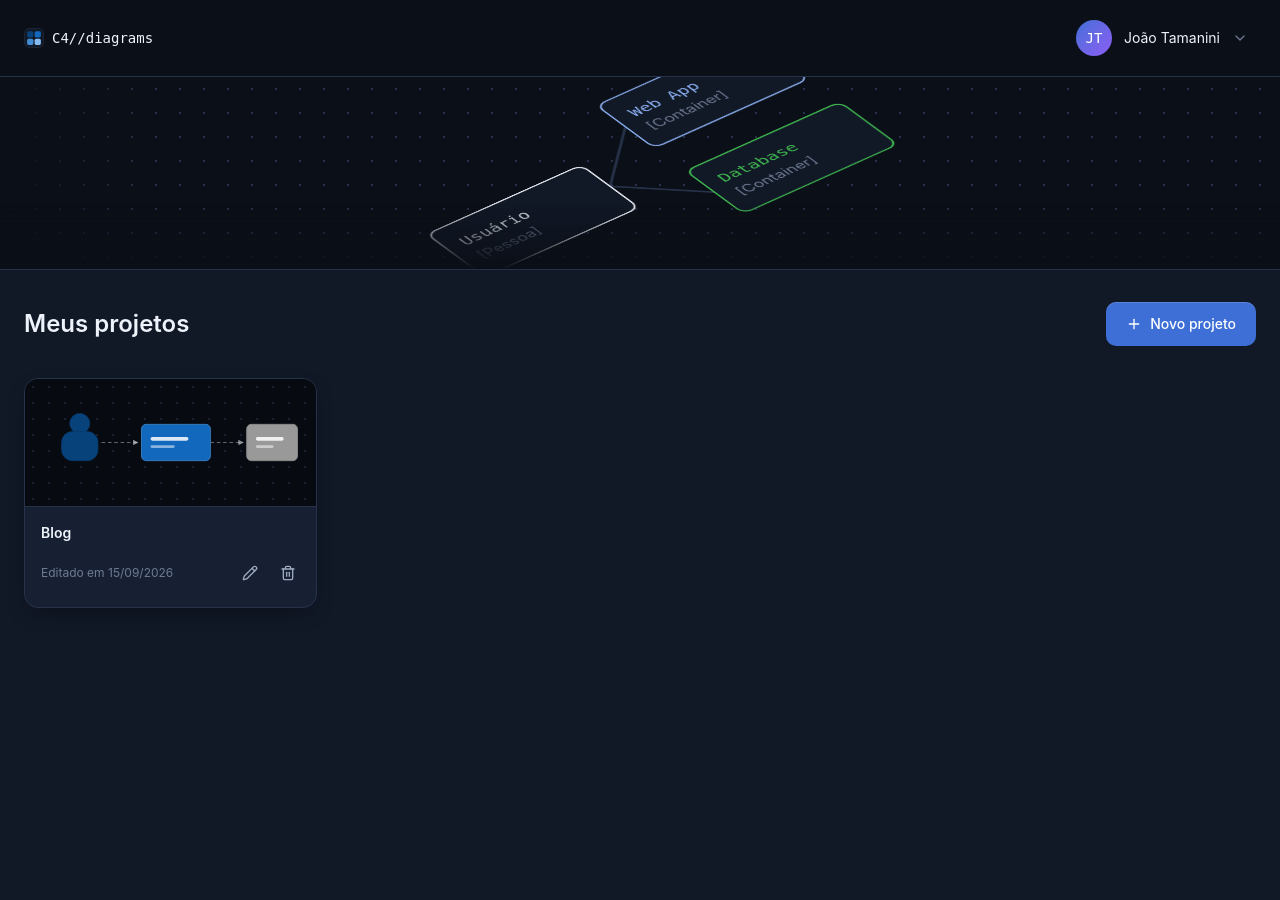
Dashboard › deve fechar o modal de criação ao cancelar, sem criar projeto
This screenshot has width=1280, height=900.
Expected: the link "Blog" is shown, [41,524,71,541]
Click the button "Novo projeto": (1181, 324) [1106,302,1256,346]
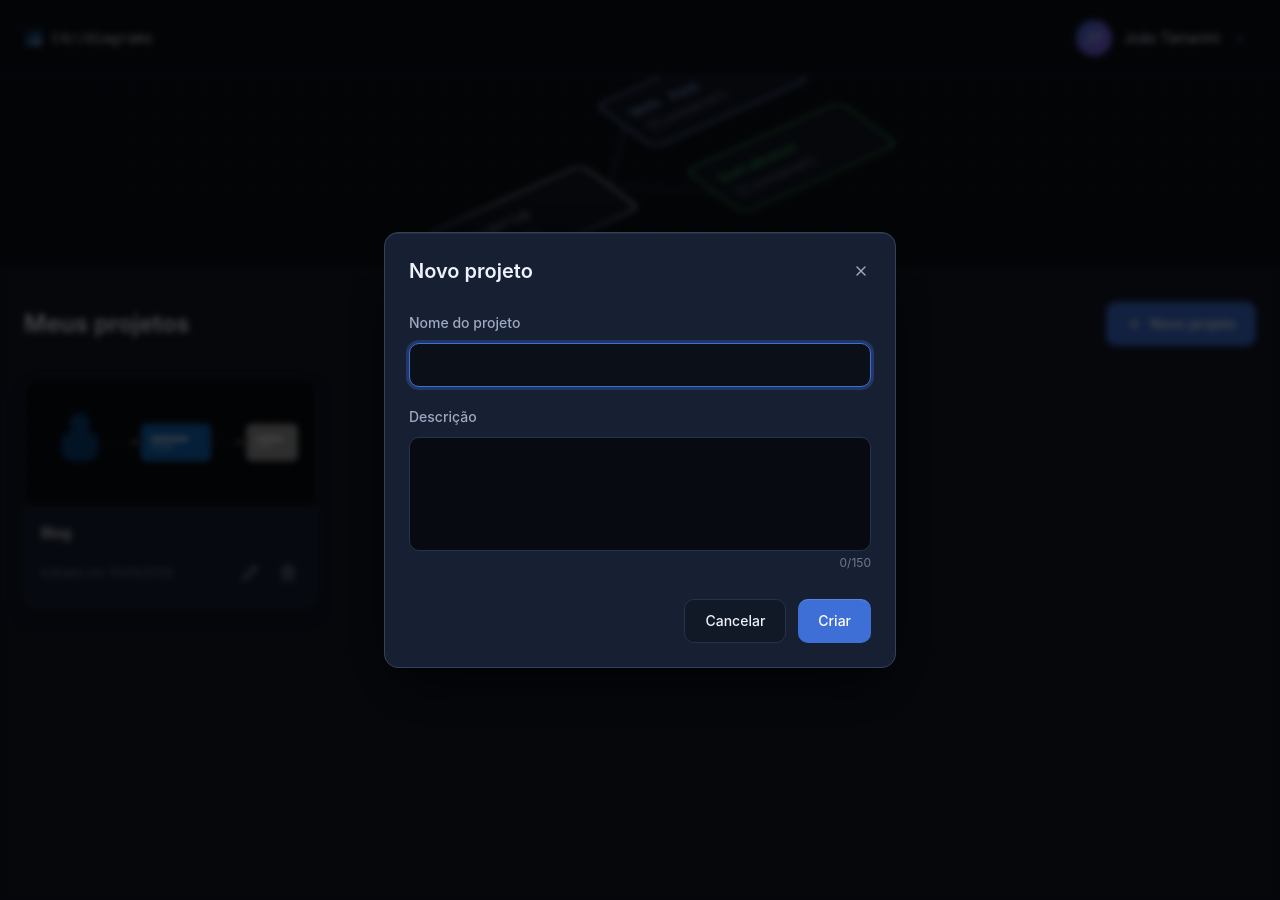
Click the button "Cancelar": (735, 621) [684,599,786,643]
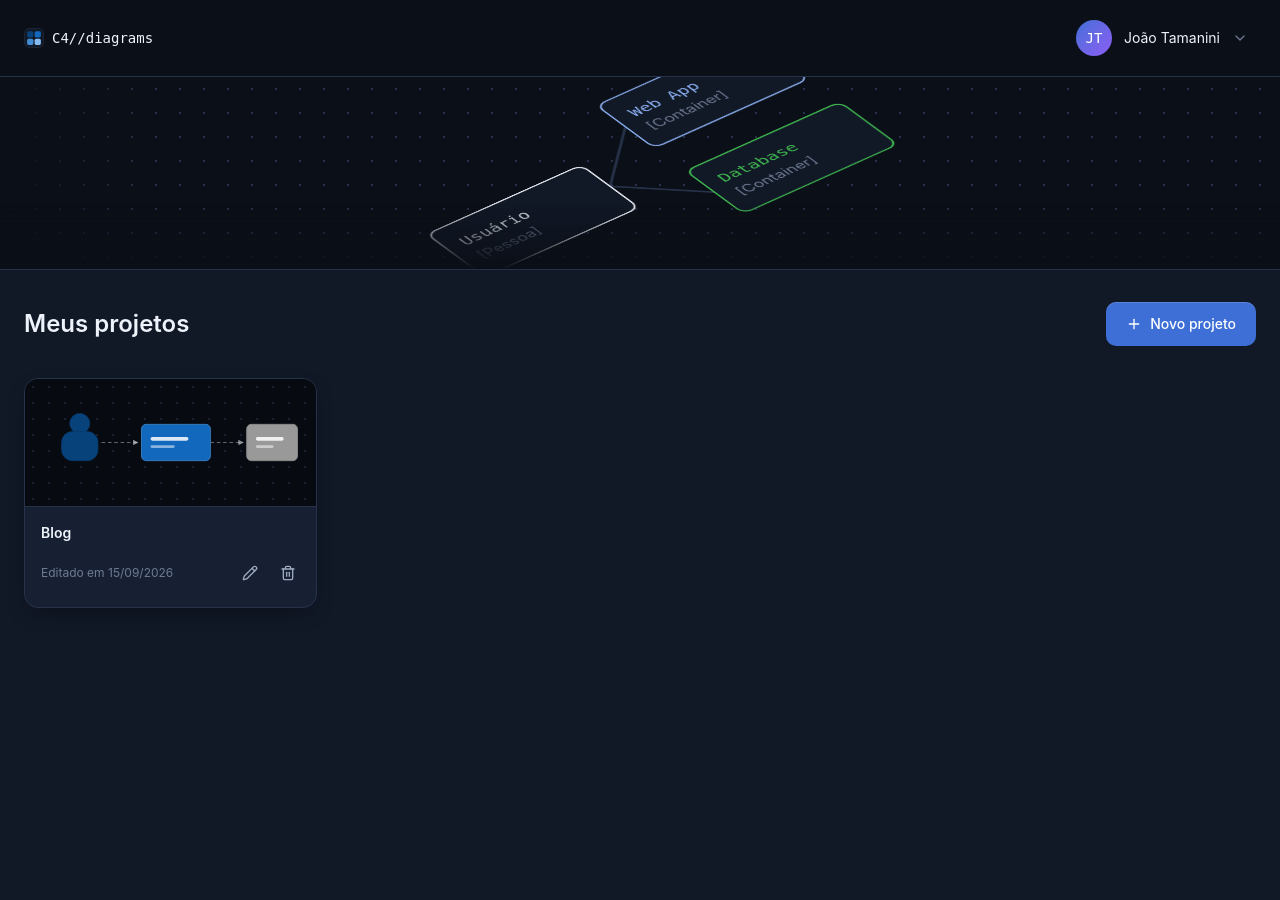
Expected: the dialog is gone
